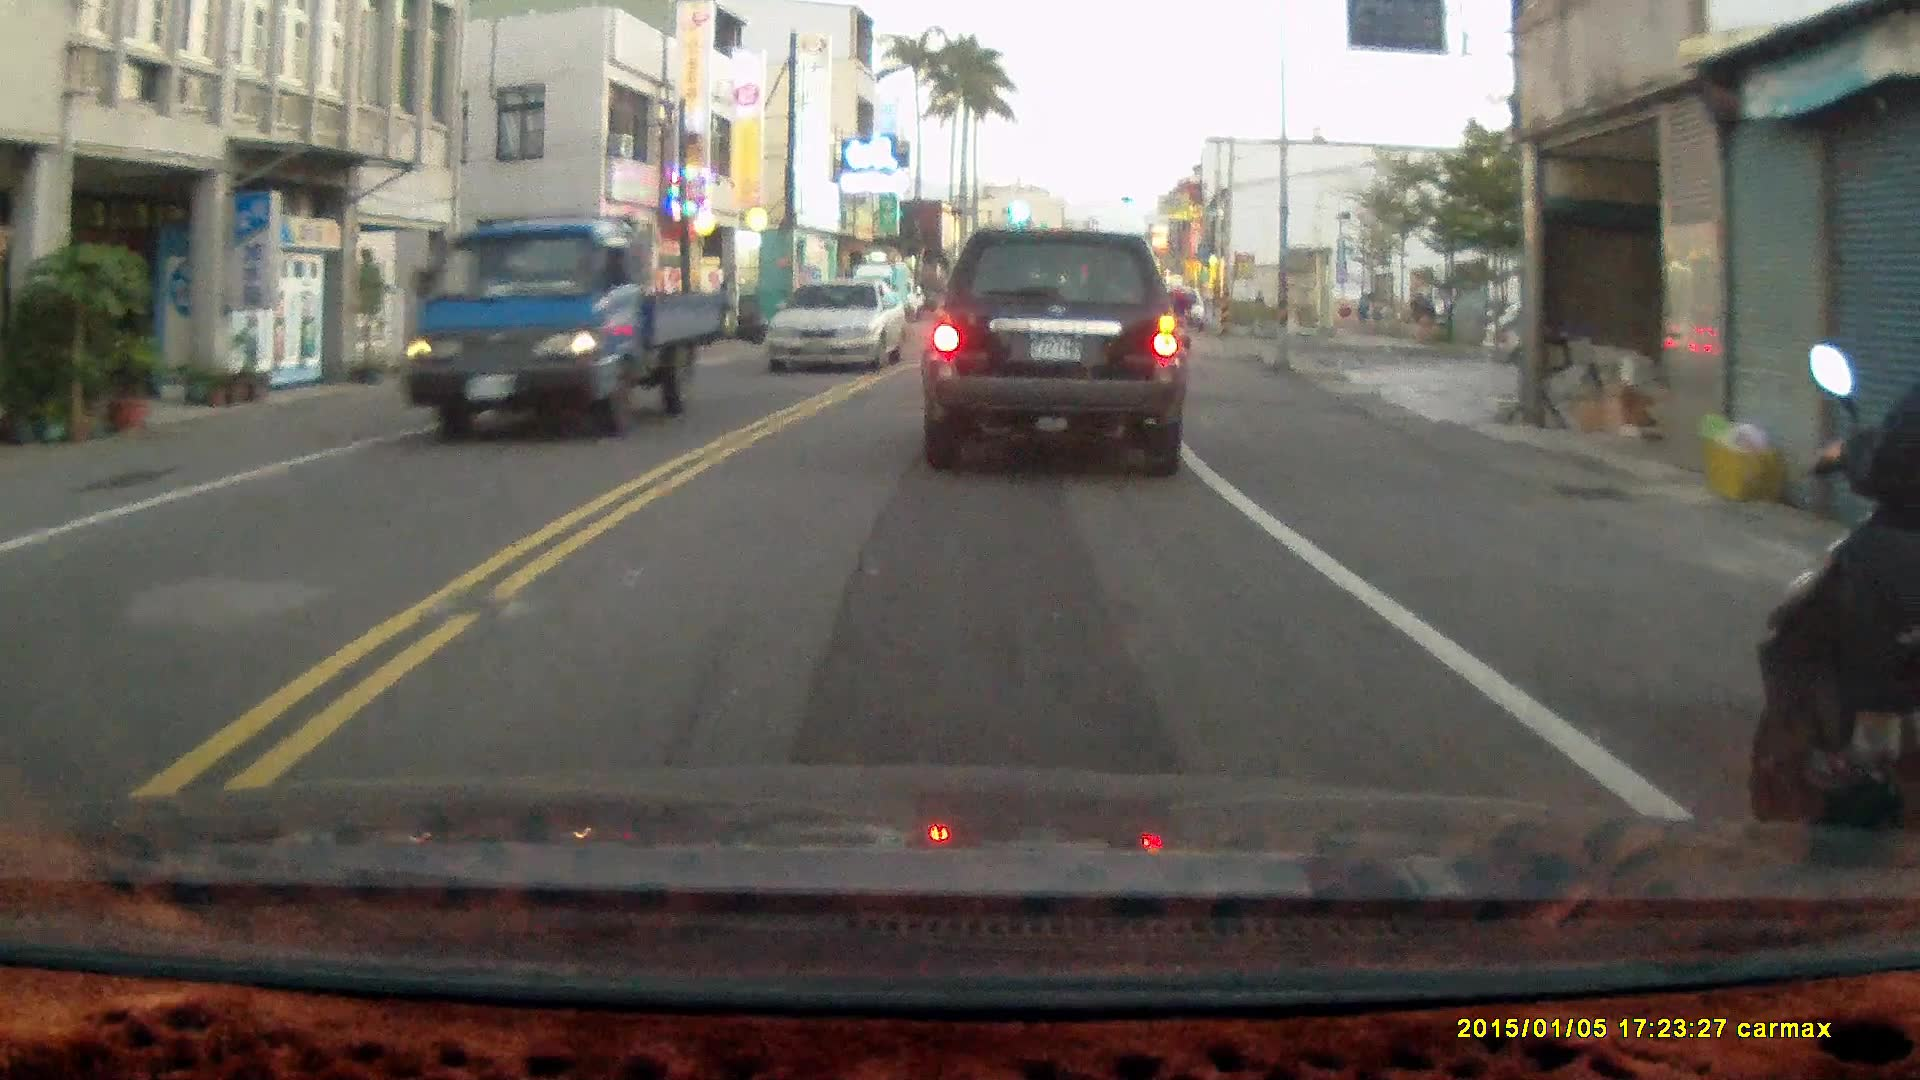rider: (1755, 296, 1920, 900), (1159, 274, 1192, 359)
vehicle: (393, 216, 724, 441), (921, 226, 1192, 482), (768, 280, 907, 379)
